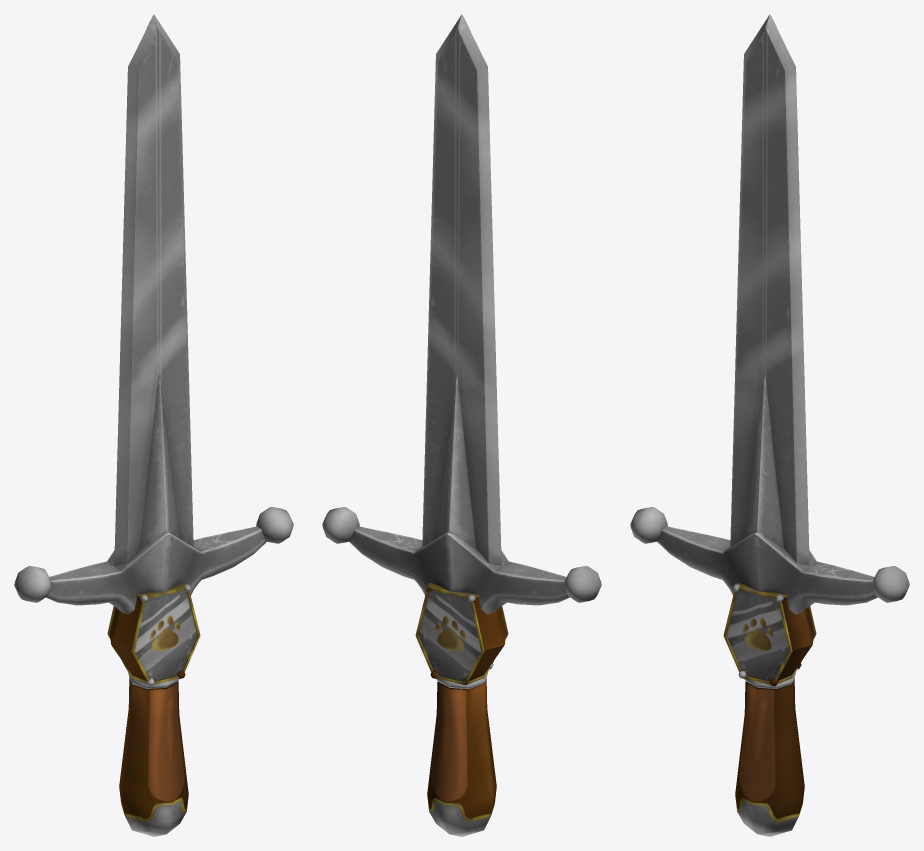
The model's file is PRP_Weapon_Dog.fbx.
The picture shows the model from 3 angles, left to right: view 1: azimuth 30°, elevation 25°; view 2: azimuth 150°, elevation 25°; view 3: azimuth 330°, elevation 25°; orthographic projection.
Parts seen in each view (by area): view 1: weaponDogSword_MSH; view 2: weaponDogSword_MSH; view 3: weaponDogSword_MSH.
Part boxes in pixels (x1,y1,x2,y2): weaponDogSword_MSH: (14,14,293,836); weaponDogSword_MSH: (322,14,601,836); weaponDogSword_MSH: (630,14,909,836).
Size of the model in its own units: 23.97 by 68.62 by 5.45.
